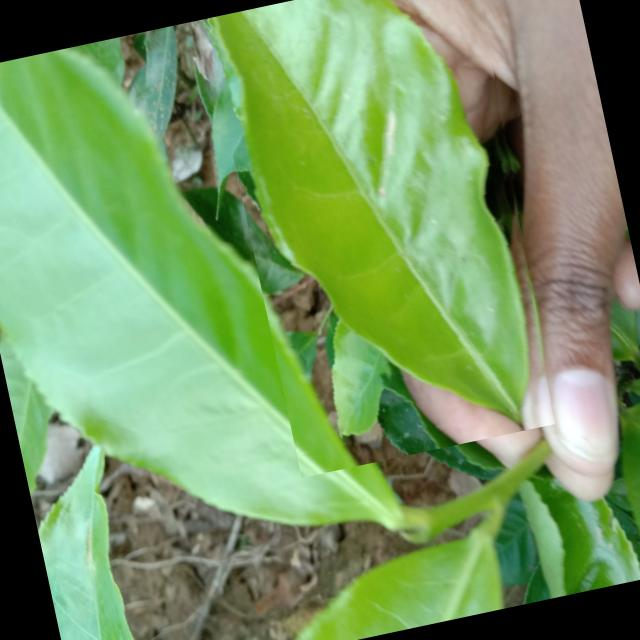Category C 4-7 days: (204, 0, 571, 476)
